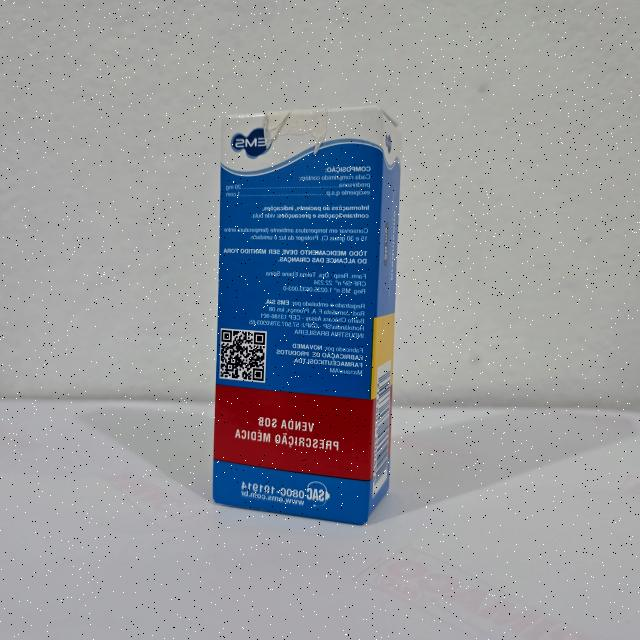prednisona: (209, 98, 408, 530)
